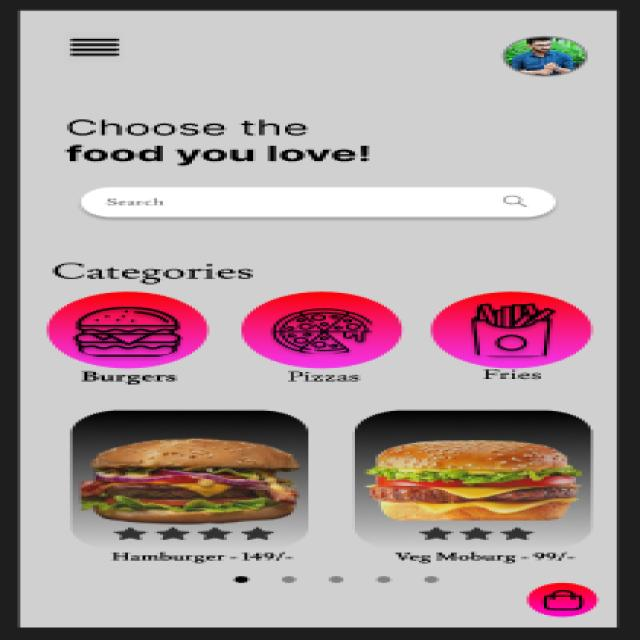Navigation dots: (196, 571, 462, 595)
breadcrums: (51, 29, 145, 68)
buttons: (247, 285, 418, 387), (47, 286, 218, 387), (436, 286, 596, 384), (516, 576, 608, 620)
icon: (491, 26, 593, 87)
images: (62, 399, 320, 566), (349, 403, 596, 569)
input fields: (69, 179, 578, 227)
text: (62, 109, 396, 170), (36, 250, 284, 279)
